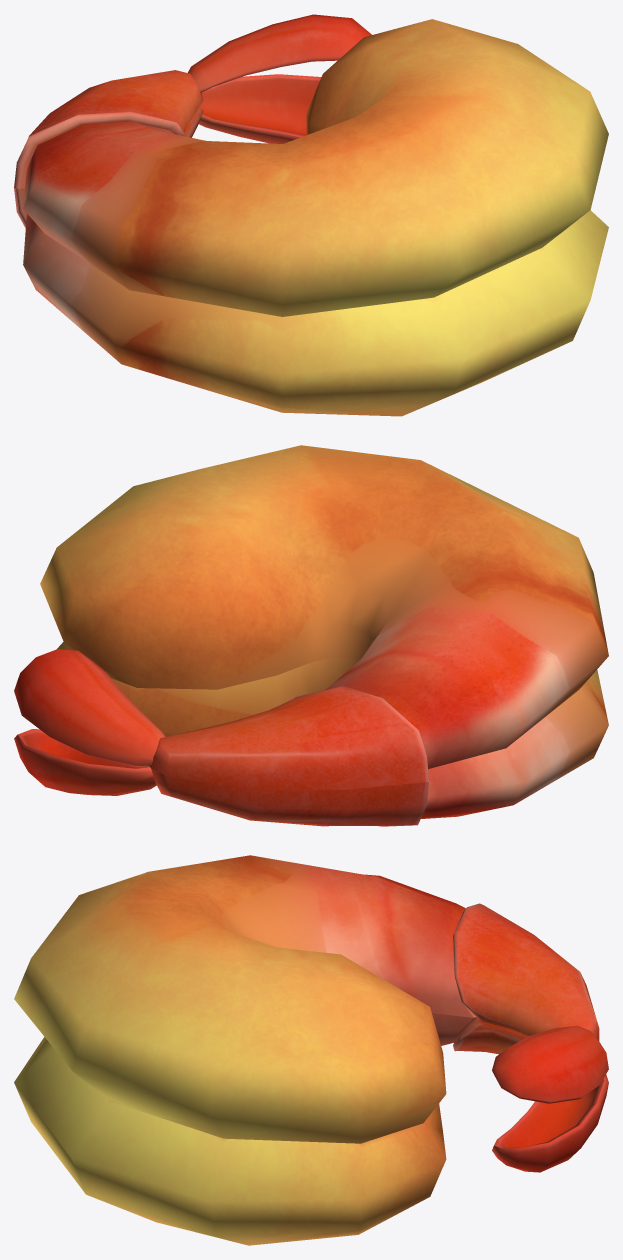
The model's file is Shrimp.fbx.
3 renders of one model, top to bottom at view 1: azimuth 30°, elevation 25°; view 2: azimuth 150°, elevation 25°; view 3: azimuth 270°, elevation 25°, orthographic. The views are drawn at different scales.
Parts seen in each view (by area): view 1: Shrimp_1; view 2: Shrimp_1; view 3: Shrimp_1.
Boxes of the visible parts, x1,y1,x2,y2 form: Shrimp_1: (14, 14, 608, 416); Shrimp_1: (14, 445, 608, 826); Shrimp_1: (14, 855, 608, 1245).
Size of the model in its own units: 21.79 by 11.91 by 23.3.
Materials: 1 (1 with a texture image).
